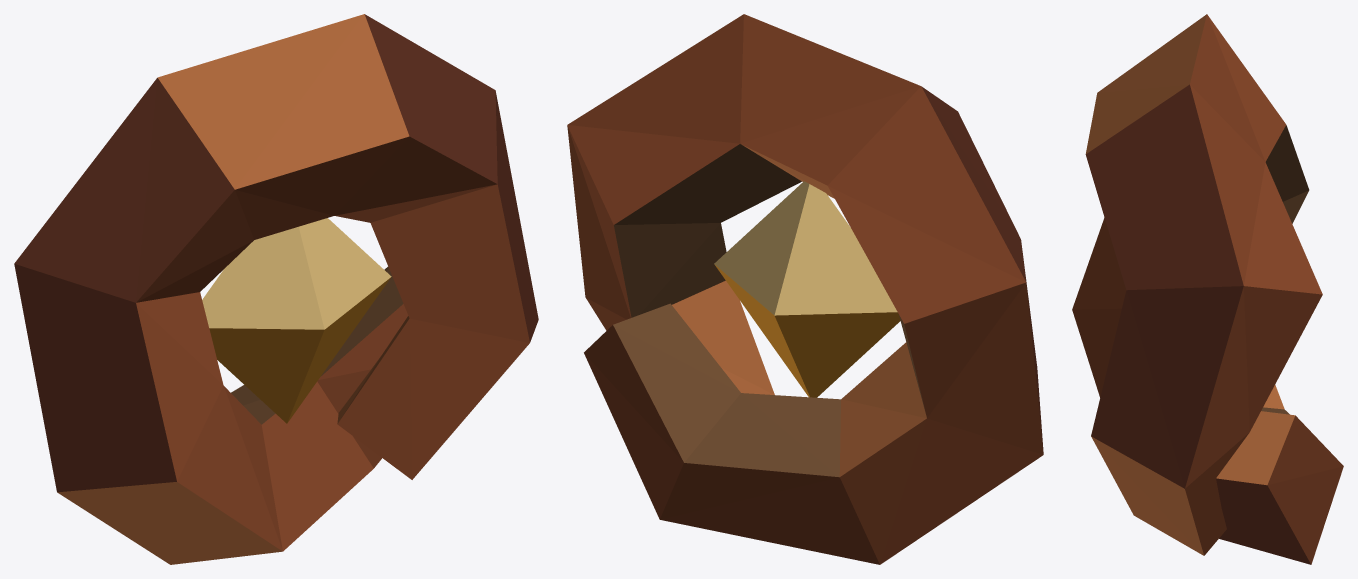
Rendered from mat_heartwood.glb.
The picture shows the model from 3 angles, left to right: view 1: azimuth 30°, elevation 25°; view 2: azimuth 150°, elevation 25°; view 3: azimuth 270°, elevation 25°; orthographic projection. The views are drawn at different scales.
Visible parts, largest first — view 1: mat_heartwood; view 2: mat_heartwood; view 3: mat_heartwood.
Part boxes in pixels (left/top/right/bottom): mat_heartwood: left=14, top=14, right=538, bottom=564; mat_heartwood: left=567, top=14, right=1043, bottom=564; mat_heartwood: left=1072, top=14, right=1343, bottom=564.
Size of the model in its own units: 0.2136 by 0.2167 by 0.1074.
